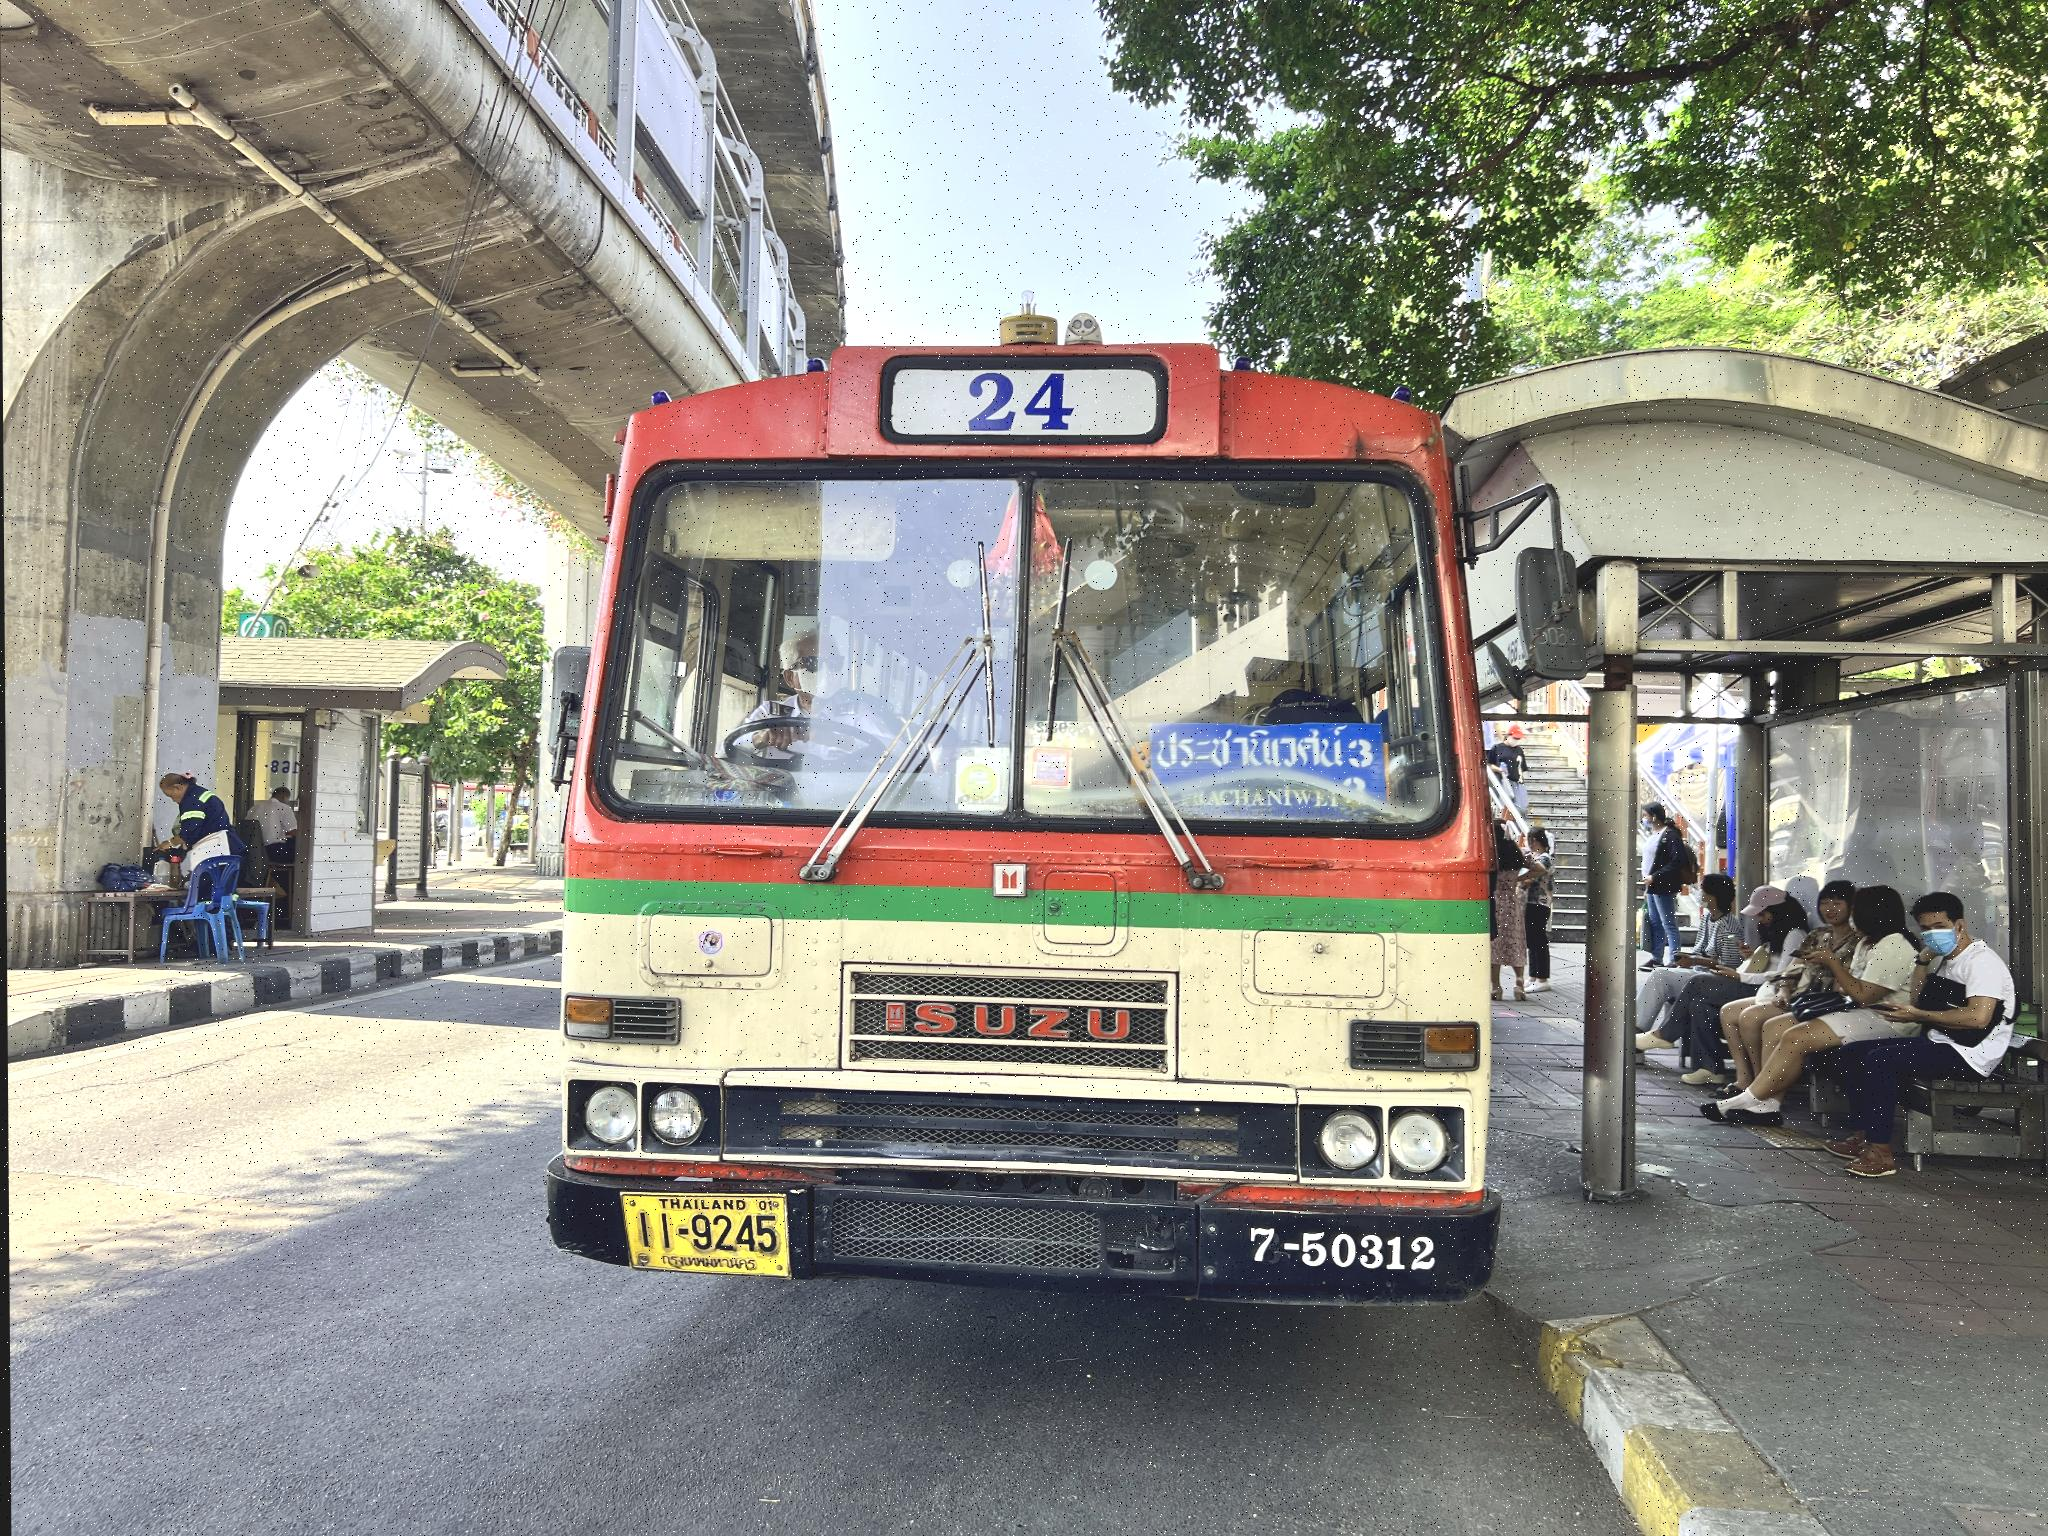BMTA-bus: (542, 336, 1516, 1312)
Bus Line Number: (877, 355, 1172, 452)
Bus Side Number: (1238, 1220, 1437, 1278)
Destination Sign: (1153, 720, 1385, 815)
